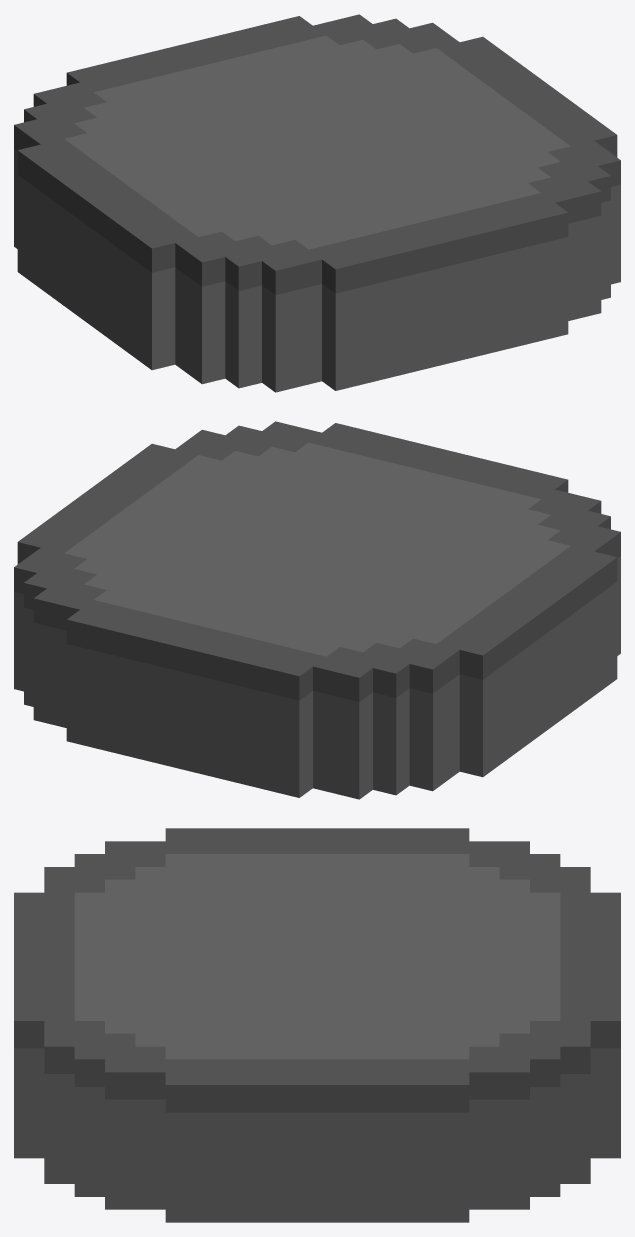
Rendered from movingplatform.obj.
The picture shows the model from 3 angles, top to bottom: view 1: azimuth 30°, elevation 25°; view 2: azimuth 150°, elevation 25°; view 3: azimuth 270°, elevation 25°; orthographic projection. The views are drawn at different scales.
Bounding box in the file's own units: 2 × 0.5 × 2.
Materials: 1 (1 with a texture image).
